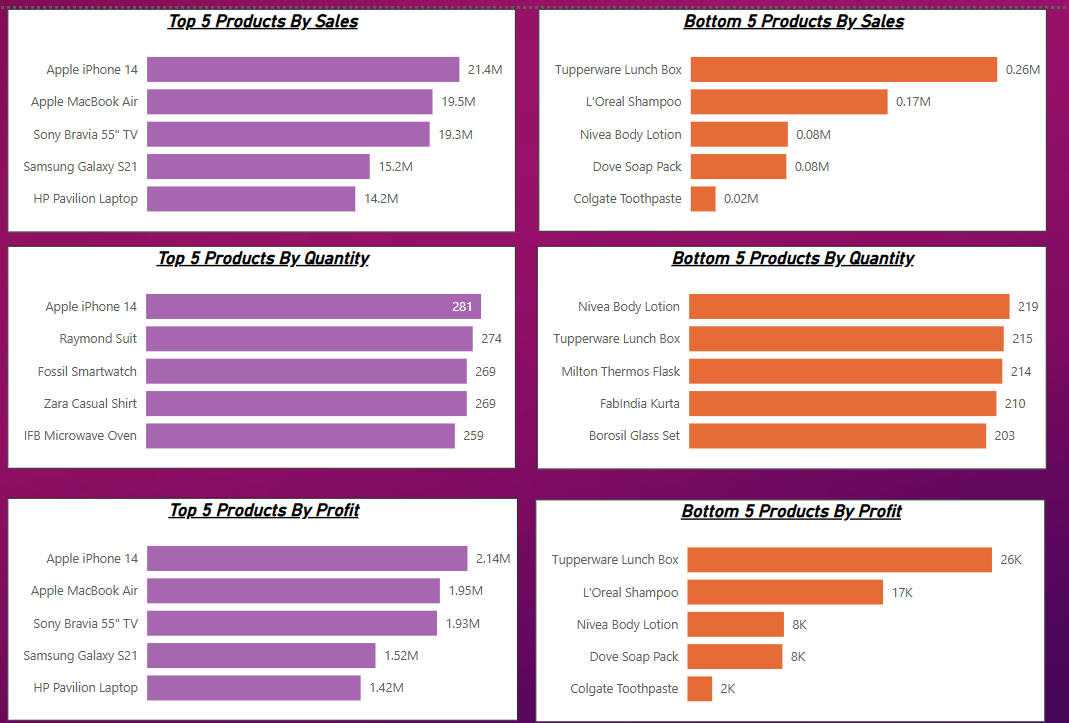

Layout of this report page (visuals, bound fields, positions):
{"tool":"powerbi","page":{"name":"Top/Bottom 5 Analysis","canvas":[1280,720],"ordinal":1},"visuals":[{"type":"barChart","title":"Top 5 Products By Sales","fields":{"Category":["Dim Product.Product Name"],"Y":["Sum(Fact Table.Net Sales  )"]},"box":[10,0,484.2,212.5],"z":0},{"type":"barChart","title":"Bottom 5 Products By Sales","fields":{"Category":["Dim Product.Product Name"],"Y":["Sum(Fact Table.Net Sales  )"]},"box":[516,0,484,212],"z":1000},{"type":"barChart","title":"Top 5 Products By Quantity ","fields":{"Category":["Dim Product.Product Name"],"Y":["Sum(Fact Table.Units Sold)"]},"box":[10,226,484,212],"z":2000},{"type":"barChart","title":"Bottom 5 Products By Quantity","fields":{"Category":["Dim Product.Product Name"],"Y":["Sum(Fact Table.Units Sold)"]},"box":[513.8,226.2,485,212.5],"z":3000},{"type":"barChart","title":"Bottom 5 Products By Profit","fields":{"Category":["Dim Product.Product Name"],"Y":["Sum(Fact Table.Profit)"]},"box":[513.3,466.7,485,211.7],"z":4000},{"type":"barChart","title":"Top 5 Products By Profit","fields":{"Category":["Dim Product.Product Name"],"Y":["Sum(Fact Table.Profit)"]},"box":[10,466,486,212],"z":5000}]}

Visuals, with their boxes on the page's 1280x720 design canvas (x1, y1, x2, y2). These are canvas units, not pixel positions in the 1069x723 screenshot, which may show the page scaled, cropped or inside an application window:
"Top 5 Products By Sales" barChart: [10, 0, 494, 212]
"Bottom 5 Products By Sales" barChart: [516, 0, 1000, 212]
"Top 5 Products By Quantity " barChart: [10, 226, 494, 438]
"Bottom 5 Products By Quantity" barChart: [514, 226, 999, 439]
"Bottom 5 Products By Profit" barChart: [513, 467, 998, 678]
"Top 5 Products By Profit" barChart: [10, 466, 496, 678]
